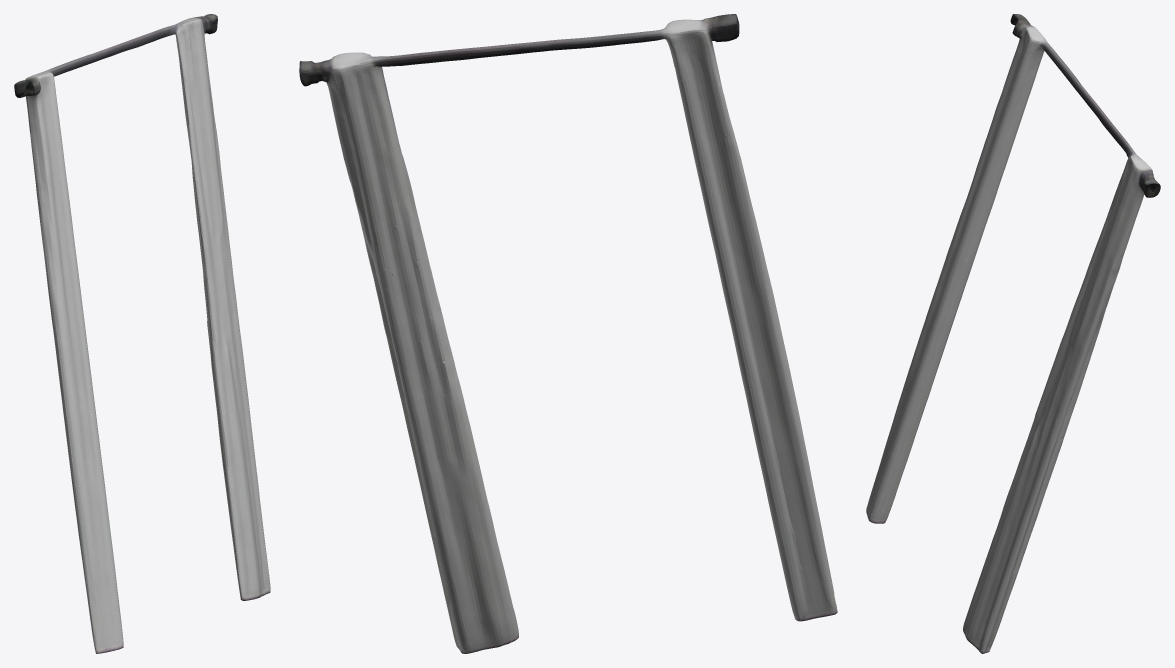
Rendered from white_curtains_on_left_window_000.glb.
3 views of the same model, side by side, from view 1: azimuth 30°, elevation 25°; view 2: azimuth 150°, elevation 25°; view 3: azimuth 270°, elevation 25° (orthographic). The views are drawn at different scales.
Visible parts, largest first — view 1: white_curtains_on_left_window_000.obj; view 2: white_curtains_on_left_window_000.obj; view 3: white_curtains_on_left_window_000.obj.
Boxes of the visible parts, x1,y1,x2,y2 form: white_curtains_on_left_window_000.obj: (14, 14, 270, 653); white_curtains_on_left_window_000.obj: (299, 14, 837, 653); white_curtains_on_left_window_000.obj: (866, 14, 1160, 653).
Size of the model in its own units: 0.6549 by 1.29 by 0.6448.
Materials: 1 (1 with a texture image).
